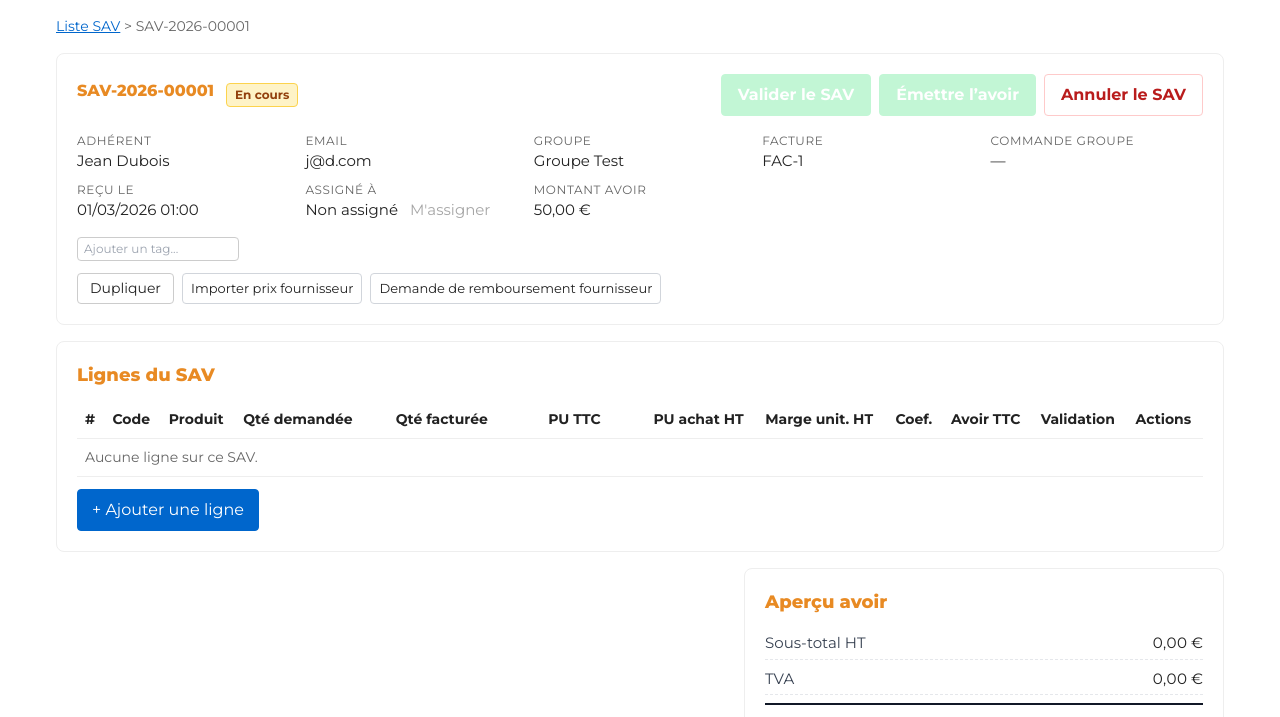
Test case: SavDetailView — modal import (AC #4) › IMP-UI-06: upload fichier → POST /api/sav/:id/import-supplier-prices → preview affichée
The image size is (1280, 717).
What coordinates should you click on to do the following:
click the button with test id "import-supplier-prices-btn"
I would click on:
 (272, 288)
Its box is [182,273,362,304].
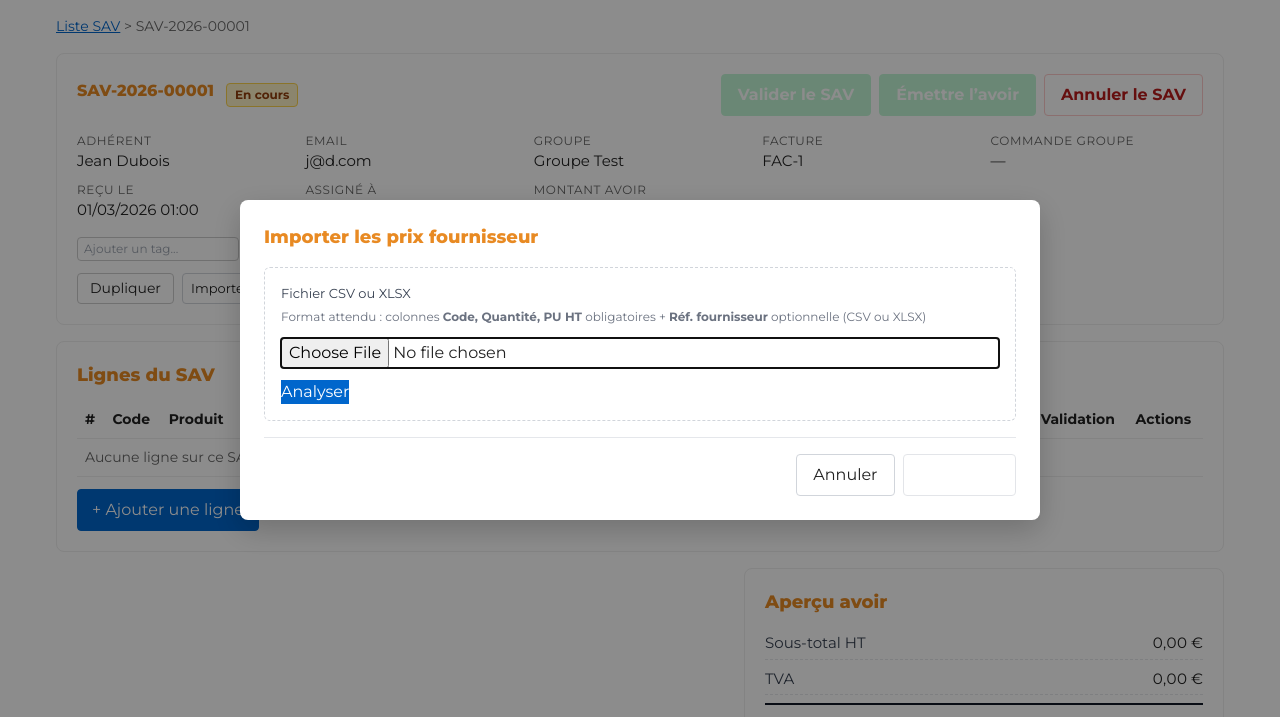
What coordinates should you click on to do the following:
click the button with test id "analyze-btn"
I would click on:
 (315, 392)
Its box is [281,380,349,404].
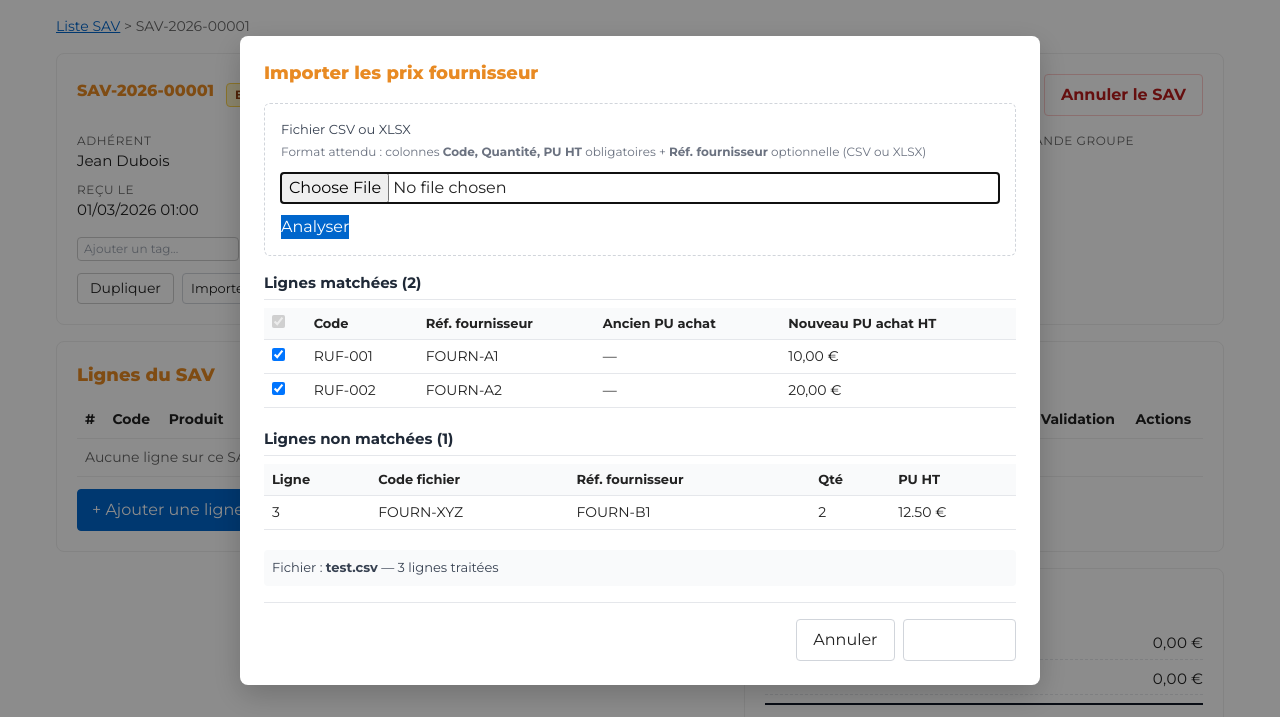
Expected: the element with test id "matched-section" is shown, [264,272,1016,408]
Expected: the element with test id "unmatched-section" is shown, [264,428,1016,530]
Expected: the number of rows with test id "matched-row" is 2, [264,340,1016,374]; [264,374,1016,408]
